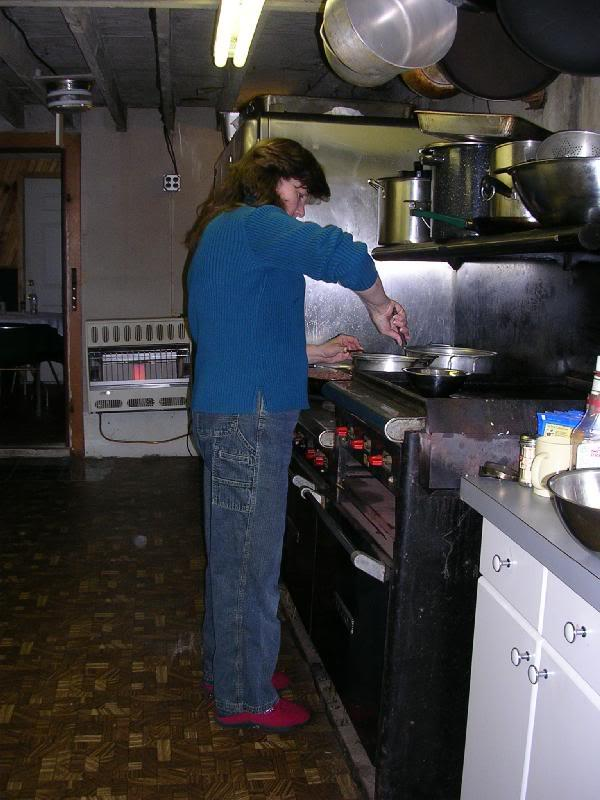person: (184, 130, 409, 727)
